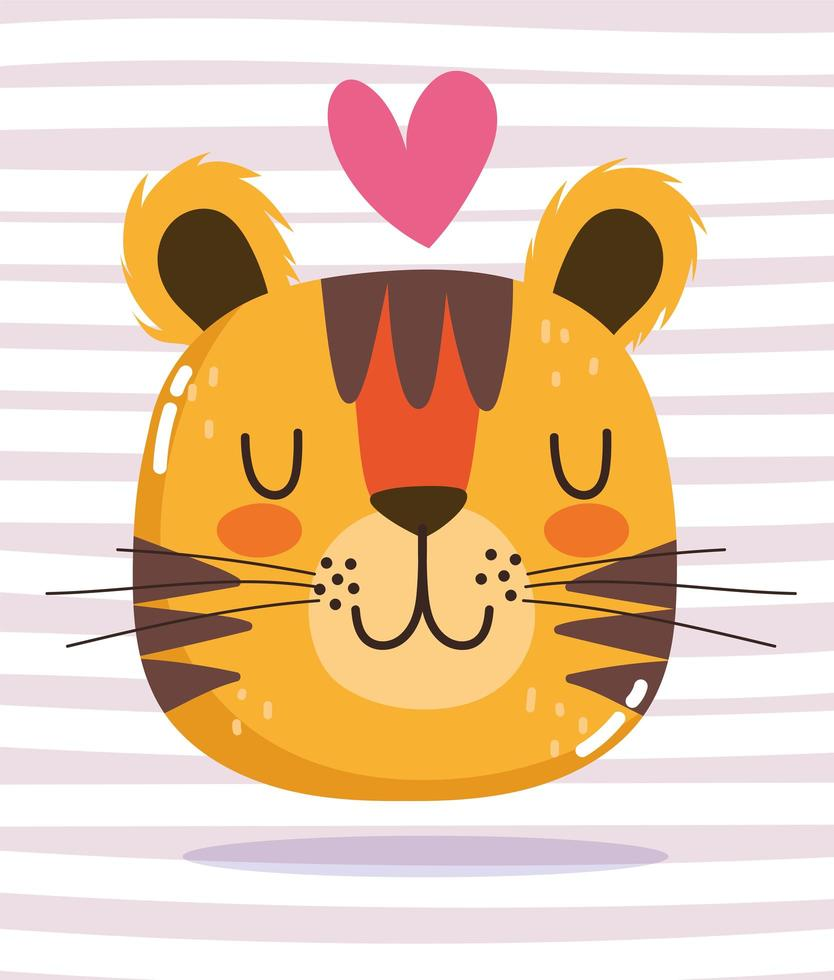Tigrew: (88, 126, 782, 851)
